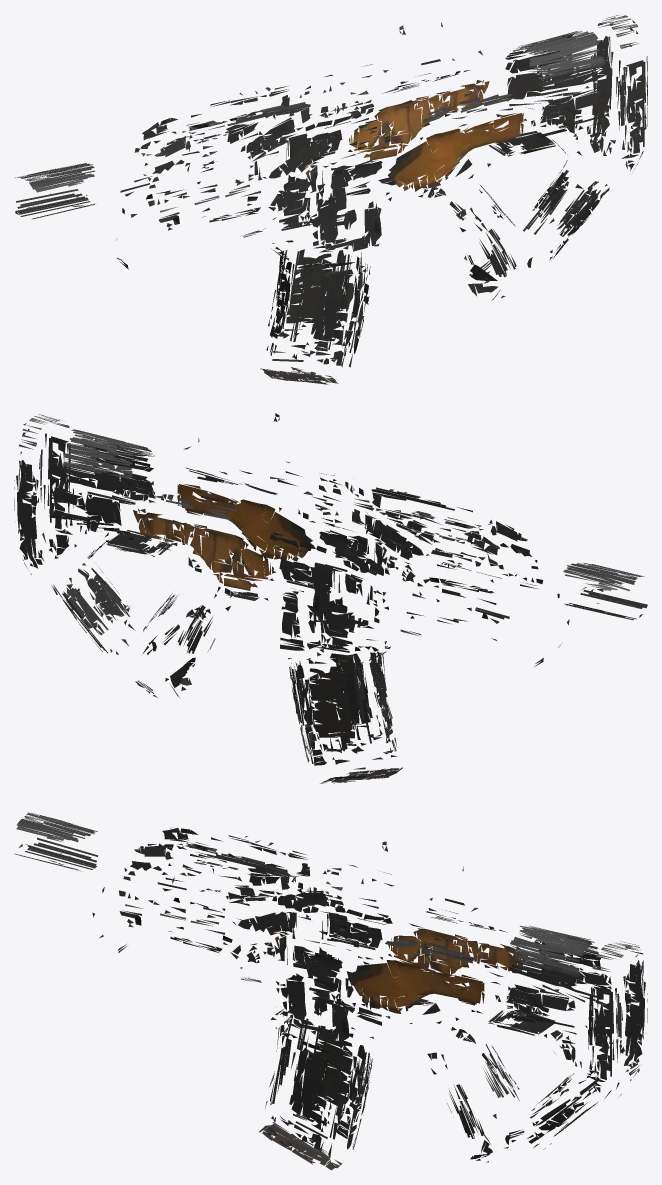
File: saldiri-tufegi.glb
3 renders of one model, top to bottom at view 1: azimuth 30°, elevation 25°; view 2: azimuth 150°, elevation 25°; view 3: azimuth 330°, elevation 25°, orthographic.
Visible parts, largest first — view 1: output; view 2: output; view 3: output.
Part boxes in pixels (x1=…): output: x1=14, y1=15, x2=647, y2=384; output: x1=14, y1=413, x2=647, y2=783; output: x1=14, y1=812, x2=647, y2=1170.
Size of the model in its own units: 2 by 1.08 by 0.2305.
1 material, 1 textured.
